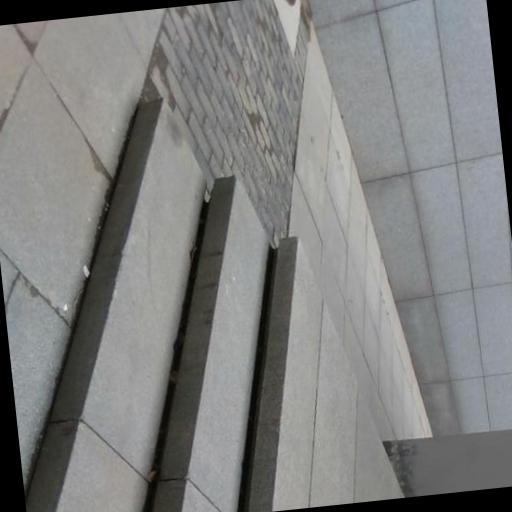stairs: (26, 100, 355, 511)
